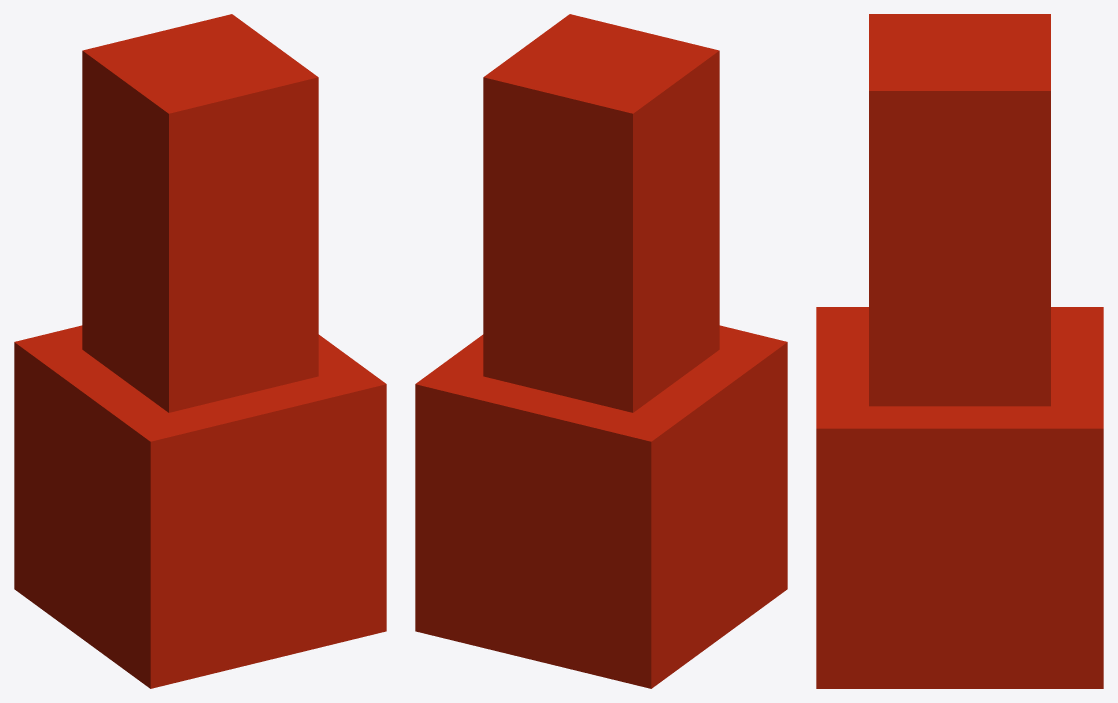
File: TestObj1.obj
3 renders of one model, left to right at view 1: azimuth 30°, elevation 25°; view 2: azimuth 150°, elevation 25°; view 3: azimuth 270°, elevation 25°, orthographic. The views are drawn at different scales.
Visible parts, largest first — view 1: Cube; view 2: Cube; view 3: Cube.
Boxes of the visible parts, left/top/right/bottom form: Cube: left=14, top=14, right=386, bottom=688; Cube: left=415, top=14, right=787, bottom=688; Cube: left=816, top=14, right=1103, bottom=688.
Size of the model in its own units: 2 by 4.42 by 2.
